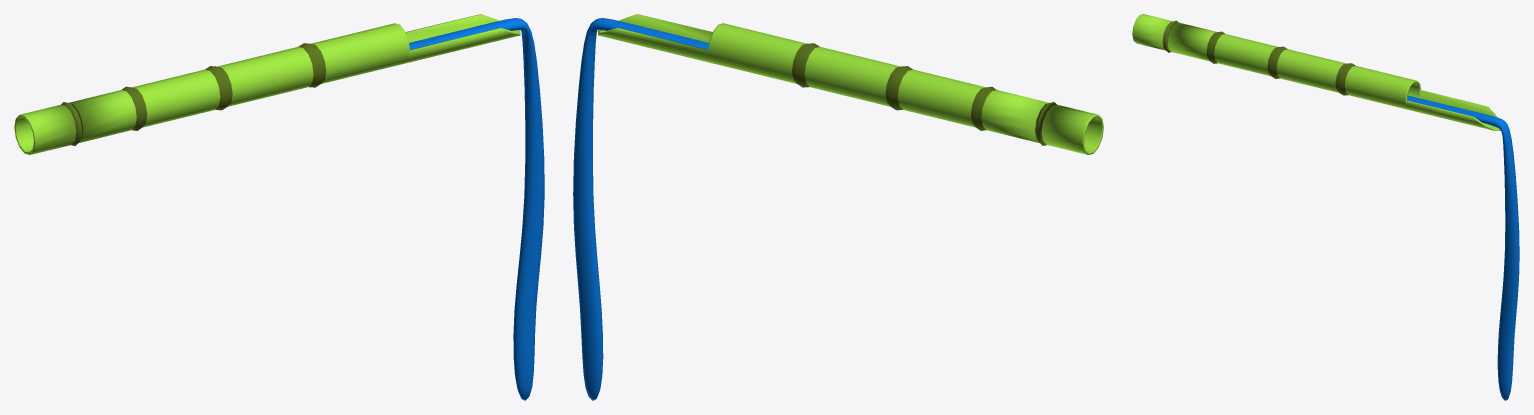
Rendered from BambooSpout.fbx.
3 renders of one model, left to right at view 1: azimuth 30°, elevation 25°; view 2: azimuth 150°, elevation 25°; view 3: azimuth 330°, elevation 25°, orthographic. The views are drawn at different scales.
Parts seen in each view (by area): view 1: BambooSpout; view 2: BambooSpout; view 3: BambooSpout.
Boxes of the visible parts, x1,y1,x2,y2 form: BambooSpout: (14,14,544,400); BambooSpout: (573,14,1103,400); BambooSpout: (1132,14,1519,400).
Bounding box in the file's own units: 25.38 × 19.1 × 1.94.
